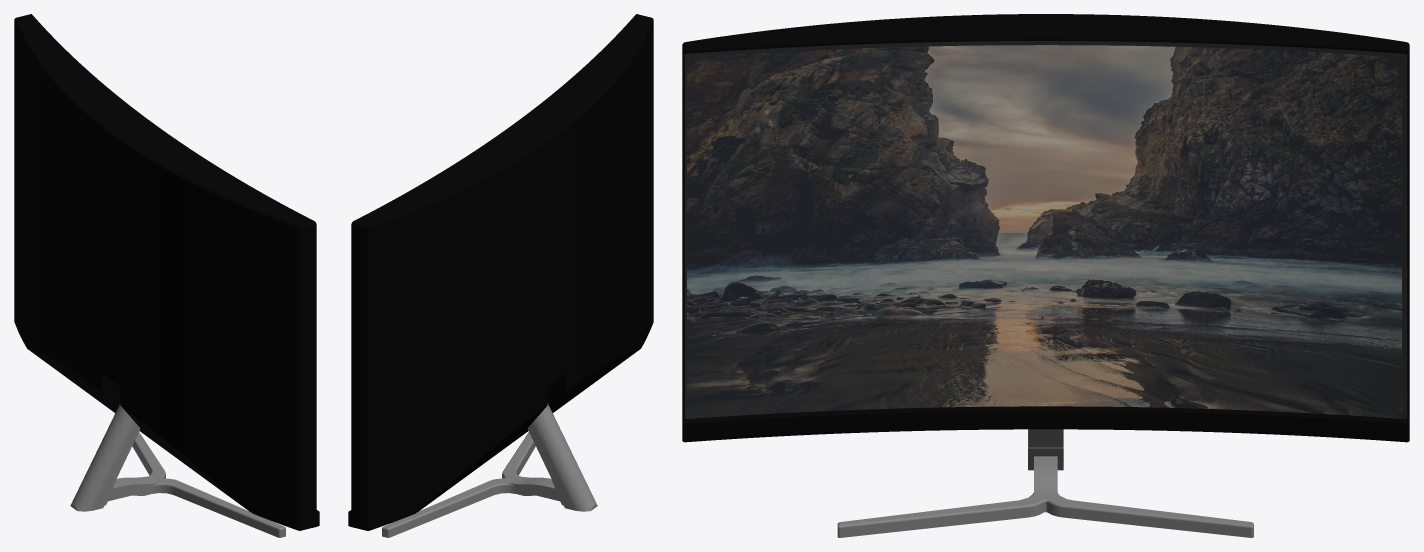
Rendered from screen.fbx.
3 renders of one model, left to right at view 1: azimuth 30°, elevation 25°; view 2: azimuth 150°, elevation 25°; view 3: azimuth 270°, elevation 25°, orthographic. The views are drawn at different scales.
Visible parts, largest first — view 1: MonitorCurved; view 2: MonitorCurved; view 3: screen, MonitorCurved.
Boxes of the visible parts, x1,y1,x2,y2 form: MonitorCurved: (14, 14, 319, 537); MonitorCurved: (348, 14, 653, 537); screen: (687, 45, 1401, 418); MonitorCurved: (682, 14, 1409, 537).
Size of the model in its own units: 638 by 1703 by 2406.
Materials: 6 (1 with a texture image).
